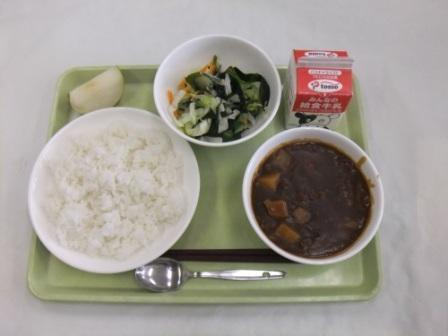Apple: (60, 63, 136, 123)
Milk: (275, 45, 363, 132)
Rice: (37, 120, 187, 267)
Salad: (153, 50, 274, 144)
soup-plain: (243, 129, 389, 267)
